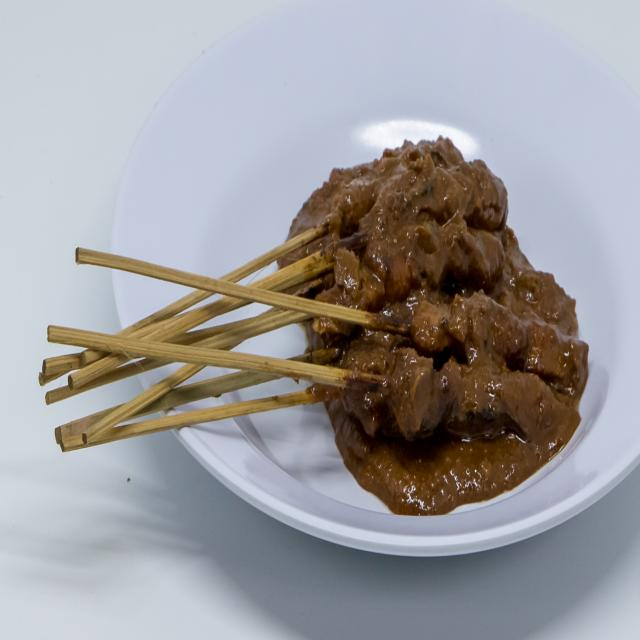Sate-Ayam: (266, 112, 583, 468)
